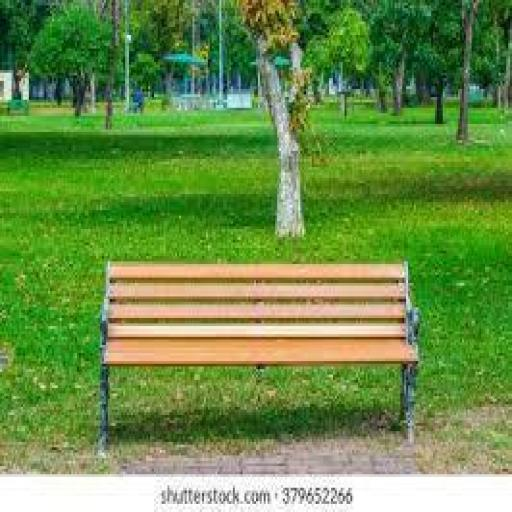chair: (94, 254, 420, 448)
